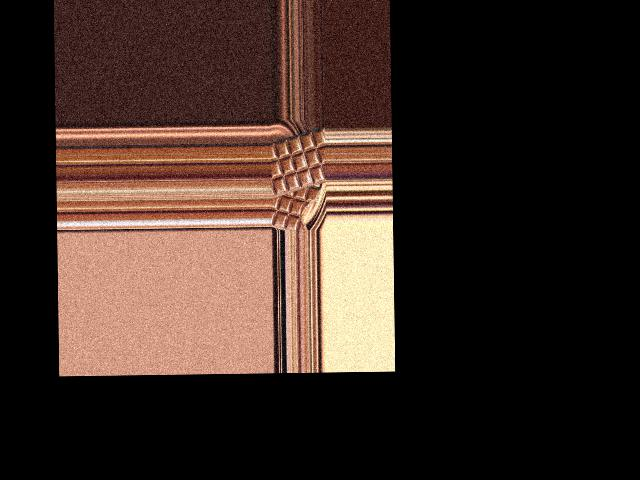chocolate: (269, 125, 325, 198)
